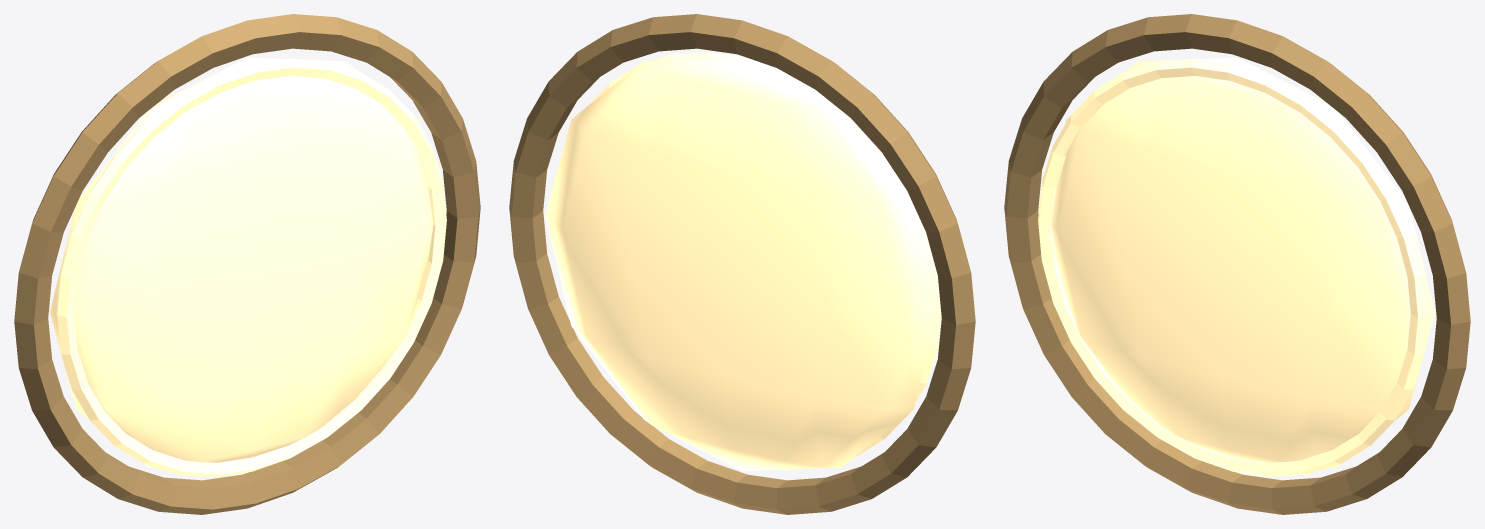
File: div3_sun_disc.glb
3 renders of one model, left to right at view 1: azimuth 30°, elevation 25°; view 2: azimuth 150°, elevation 25°; view 3: azimuth 330°, elevation 25°, orthographic.
Visible parts, largest first — view 1: div3_sun_disc__warm-luminous, div3_sun_disc__satin-honey-brass; view 2: div3_sun_disc__warm-luminous, div3_sun_disc__satin-honey-brass; view 3: div3_sun_disc__warm-luminous, div3_sun_disc__satin-honey-brass.
Boxes of the visible parts, bbox=[...] form: div3_sun_disc__warm-luminous: bbox=[50, 57, 446, 476]; div3_sun_disc__satin-honey-brass: bbox=[14, 14, 480, 514]; div3_sun_disc__warm-luminous: bbox=[545, 52, 941, 471]; div3_sun_disc__satin-honey-brass: bbox=[509, 14, 975, 514]; div3_sun_disc__warm-luminous: bbox=[1038, 57, 1434, 476]; div3_sun_disc__satin-honey-brass: bbox=[1004, 14, 1470, 514].
Size of the model in its own units: 2.36 by 2.36 by 0.3.
